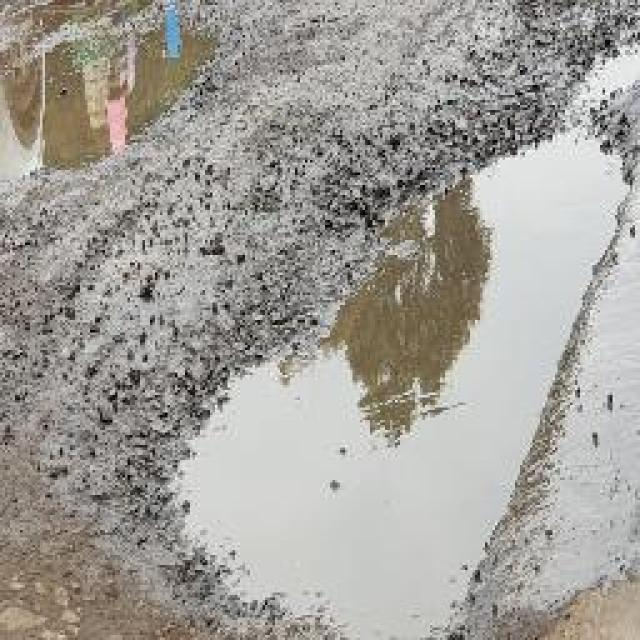stagnation: (210, 145, 575, 640), (0, 4, 220, 173)
